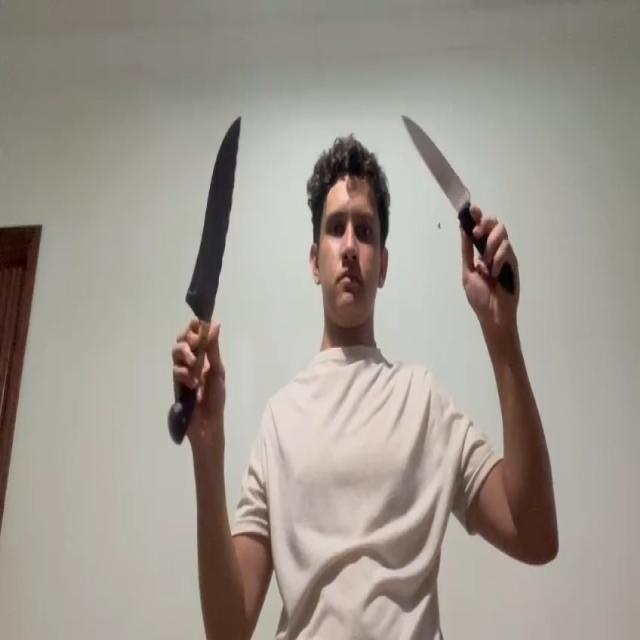knife: (184, 114, 242, 310), (402, 114, 472, 208)
